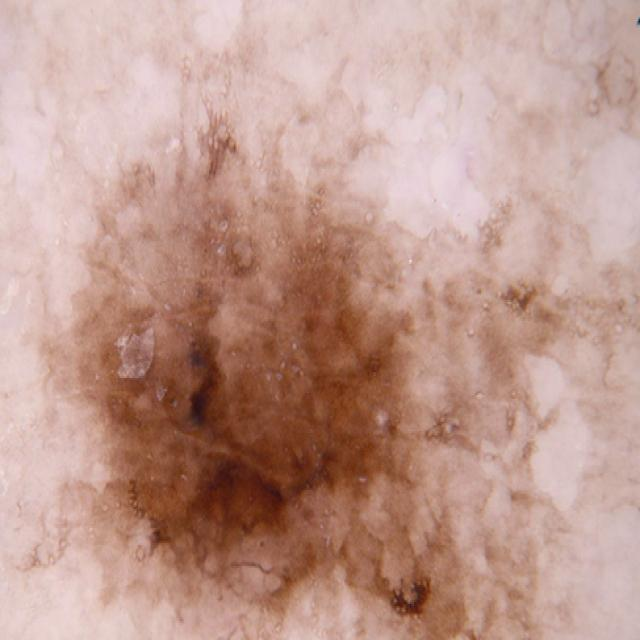Keratosis: (19, 114, 609, 640)
